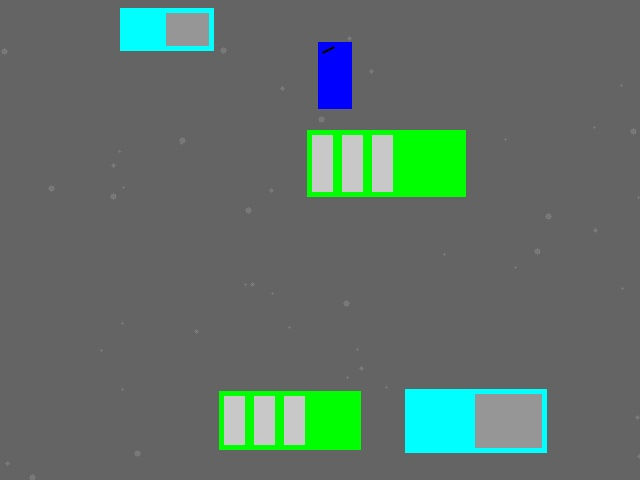bus: (307, 130, 465, 196), (219, 391, 360, 449)
motorcycle: (318, 42, 351, 108)
truck: (405, 389, 546, 452), (120, 8, 213, 50)
